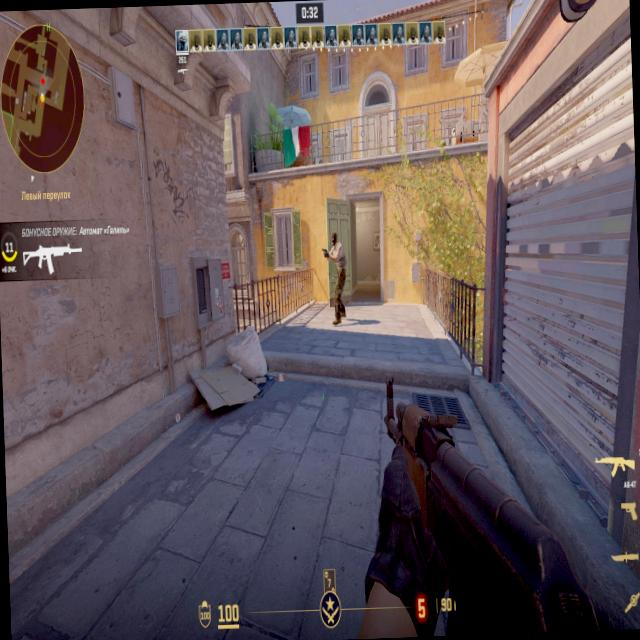T: (330, 234, 348, 313)
T_heat: (330, 238, 340, 258)
